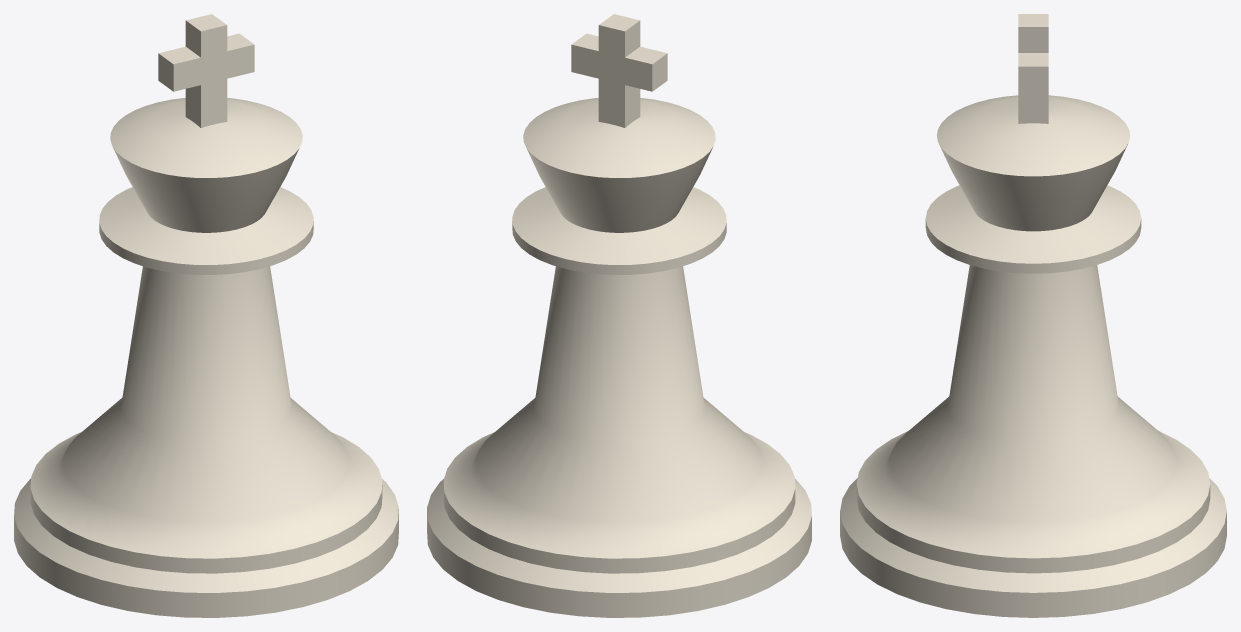
File: WhiteKing.glb
3 views of the same model, side by side, from view 1: azimuth 30°, elevation 25°; view 2: azimuth 150°, elevation 25°; view 3: azimuth 270°, elevation 25° (orthographic).
Parts seen in each view (by area): view 1: WhiteKing; view 2: WhiteKing; view 3: WhiteKing.
Part boxes in pixels (box(x1,y1,x2,y2)): WhiteKing: box(14, 14, 398, 617); WhiteKing: box(427, 14, 811, 617); WhiteKing: box(840, 14, 1226, 617).
Size of the model in its own units: 0.7 by 1.03 by 0.7.
